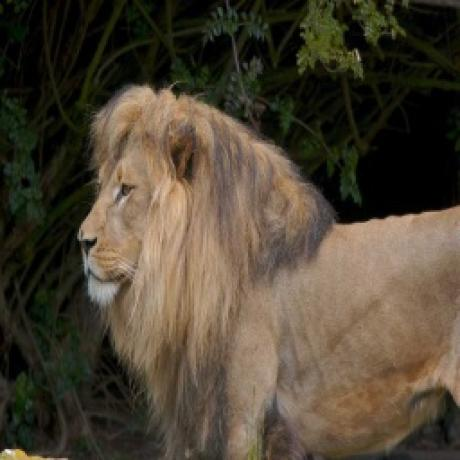Lion: (73, 79, 460, 460)
